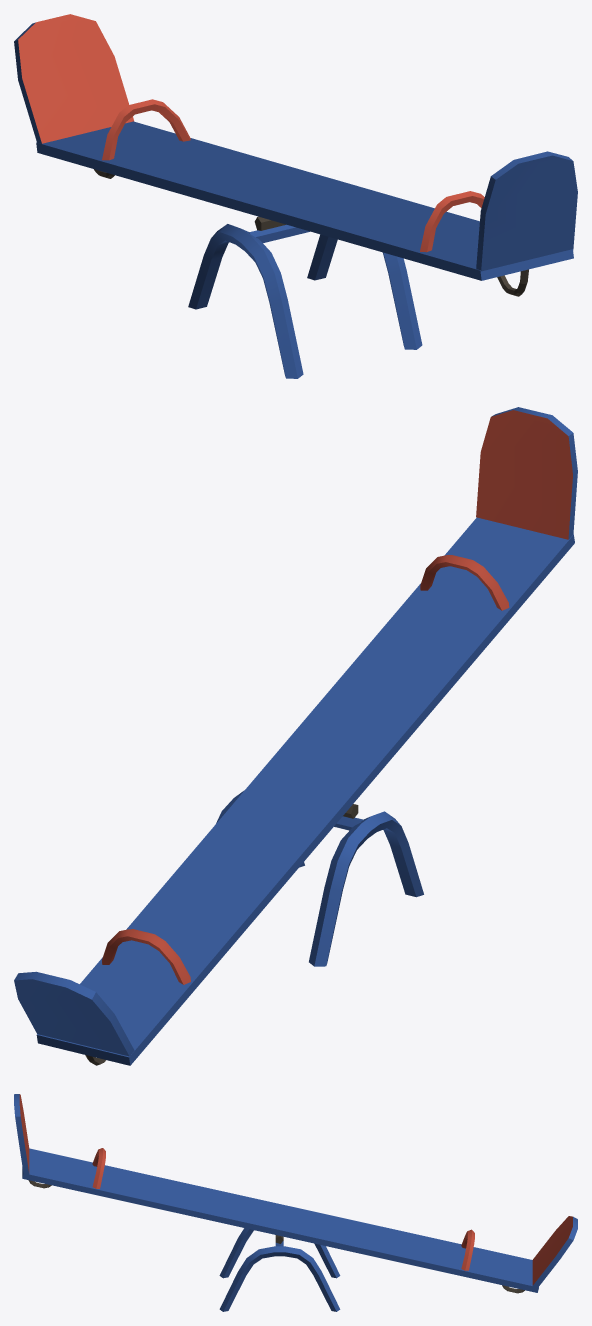
File: Seesaw.gltf
The picture shows the model from 3 angles, top to bottom: view 1: azimuth 30°, elevation 25°; view 2: azimuth 150°, elevation 25°; view 3: azimuth 270°, elevation 25°; orthographic projection. The views are drawn at different scales.
Parts seen in each view (by area): view 1: SM_Swings_01; view 2: SM_Swings_01; view 3: SM_Swings_01.
Boxes of the visible parts, x1,y1,x2,y2 form: SM_Swings_01: [14, 14, 577, 378]; SM_Swings_01: [14, 407, 577, 1065]; SM_Swings_01: [14, 1094, 577, 1311].
Size of the model in its own units: 0.4542 by 1.07 by 2.8.
Materials: 1 (1 with a texture image).
